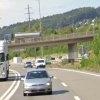cars: (23, 69, 54, 96)
